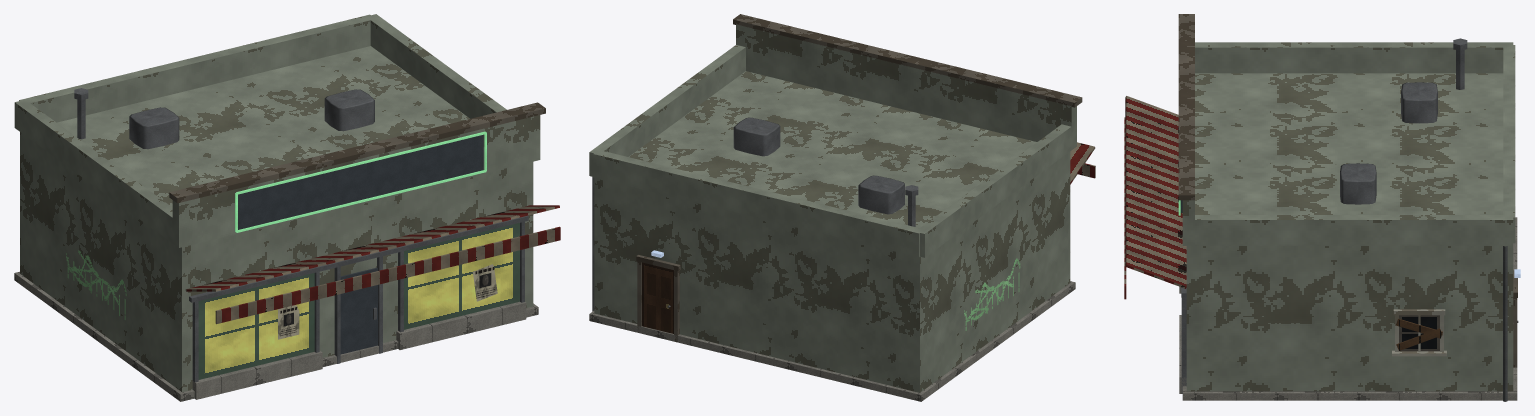
The model's file is town_laundromat.glb.
3 renders of one model, left to right at view 1: azimuth 30°, elevation 25°; view 2: azimuth 150°, elevation 25°; view 3: azimuth 270°, elevation 25°, orthographic. The views are drawn at different scales.
Parts seen in each view (by area): view 1: detail, shell-col; view 2: shell-col, detail; view 3: shell-col, detail.
Part boxes in pixels (bbox=[...]): detail: bbox=[14, 14, 560, 399]; shell-col: bbox=[14, 46, 538, 401]; shell-col: bbox=[589, 71, 1075, 401]; detail: bbox=[589, 14, 1095, 341]; shell-col: bbox=[1182, 73, 1517, 400]; detail: bbox=[1124, 14, 1520, 401].
Size of the model in its own units: 10.5 by 5.62 by 9.7.
Materials: 16 (16 with a texture image).
